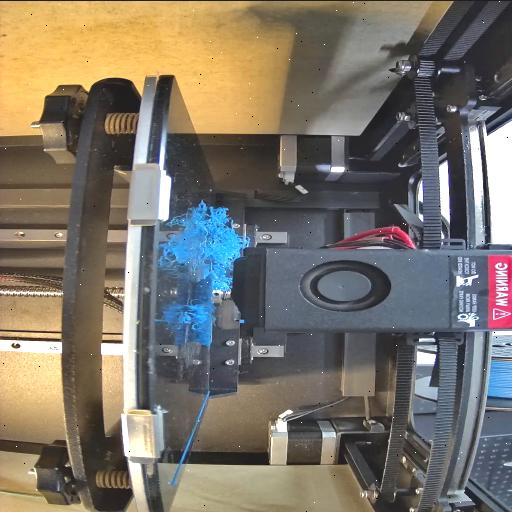spaghetti: (196, 202, 234, 286), (185, 298, 215, 332)
